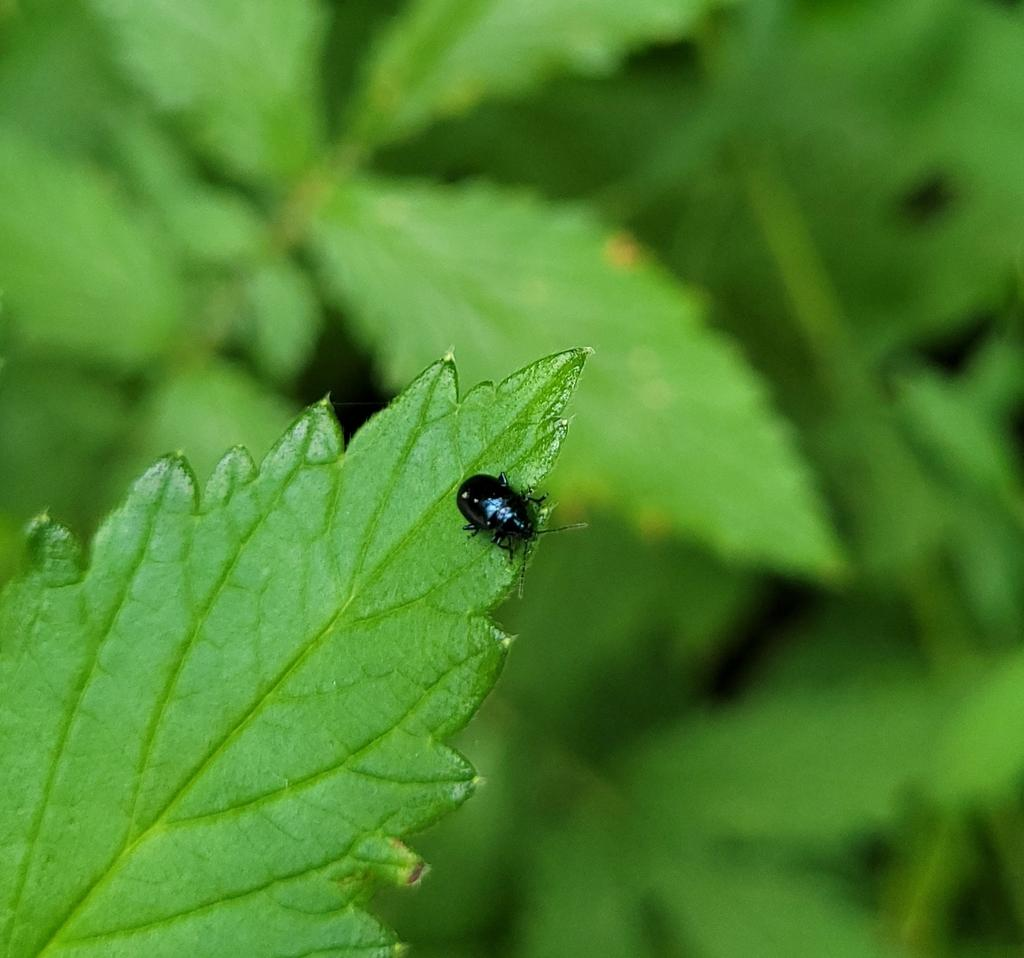flea_beetle: (429, 455, 621, 618)
